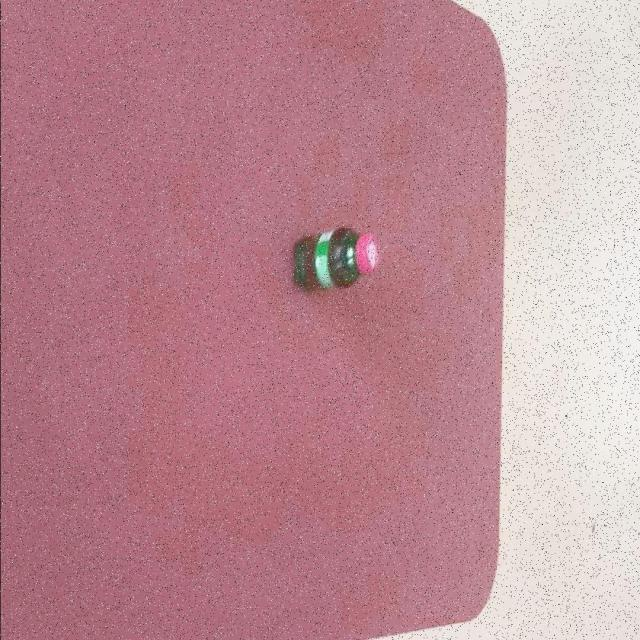Guarana: (292, 227, 381, 294), (313, 228, 381, 293)
